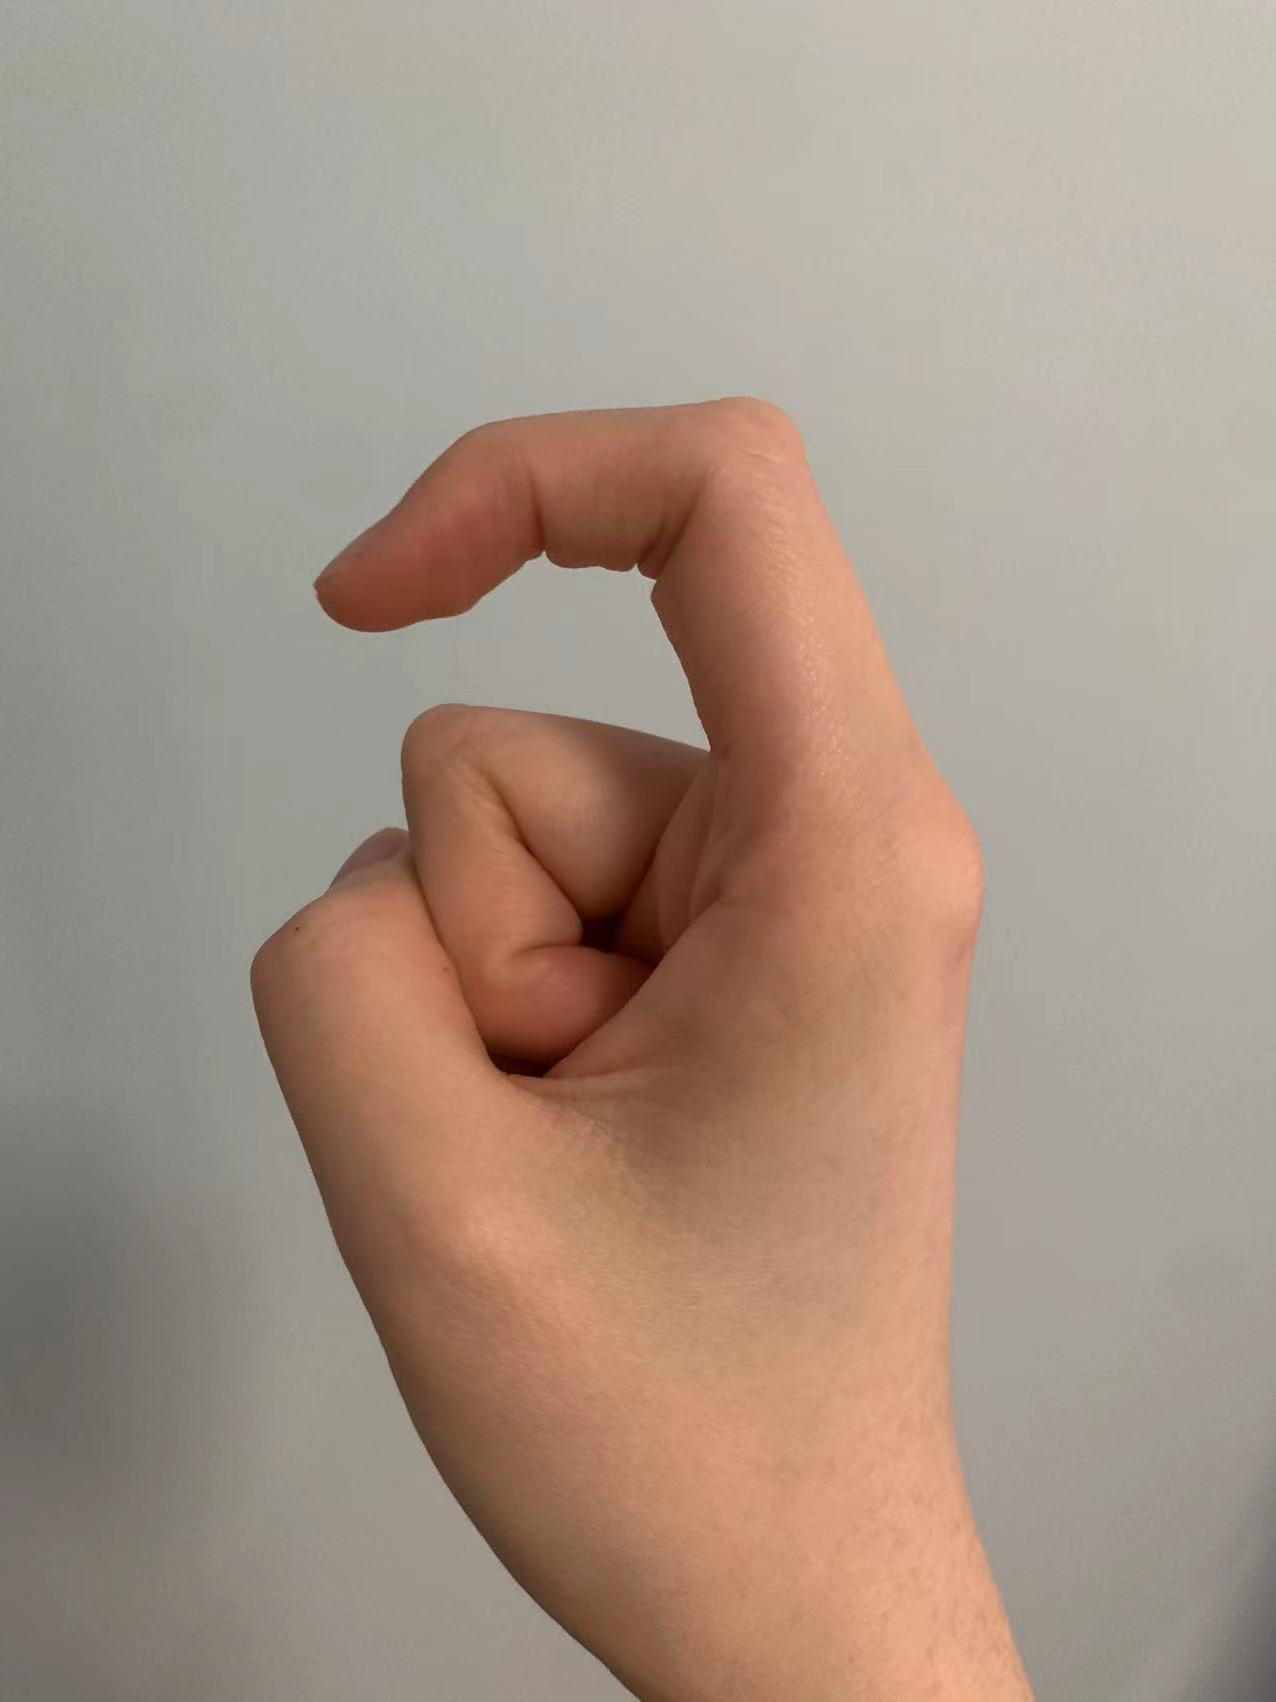anticlockwise: (200, 381, 1000, 1620)
